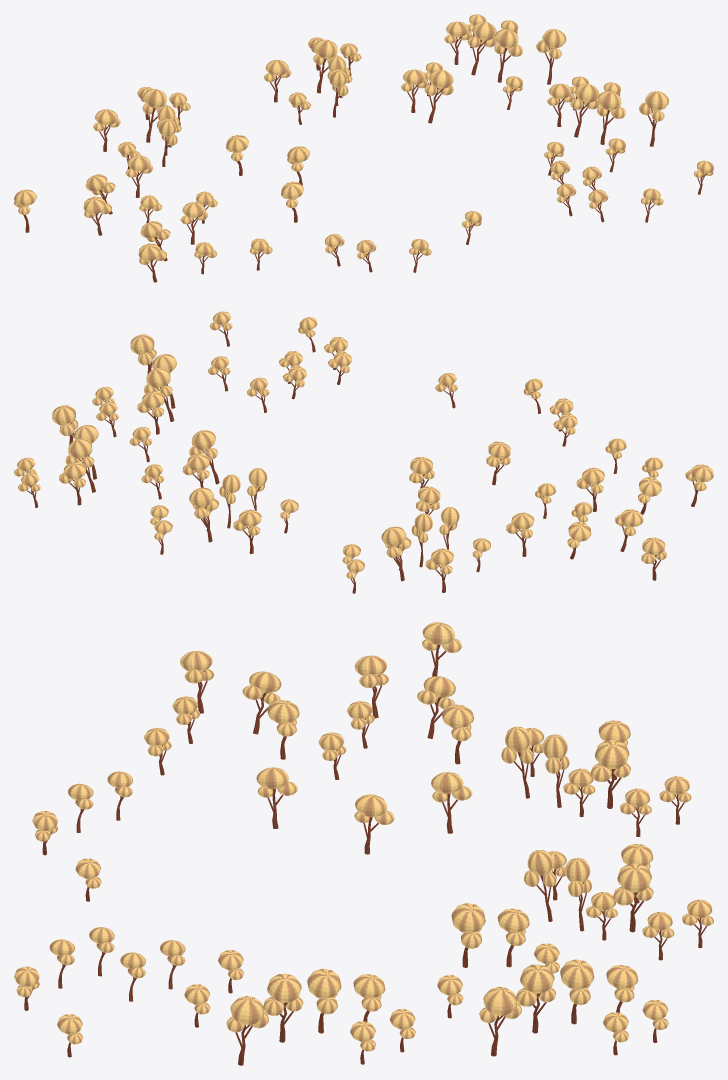
Rendered from Trees.glb.
3 renders of one model, top to bottom at view 1: azimuth 30°, elevation 25°; view 2: azimuth 150°, elevation 25°; view 3: azimuth 270°, elevation 25°, orthographic. The views are drawn at different scales.
Parts seen in each view (by area): view 1: Tree4 (2), Tree21, Tree21 (1), Tree4 (1), Tree13, Tree13 (1), Tree4, Tree34, Tree34 (1), Tree15 (1), Tree15 (2), Tree15 (+14 smaller); view 2: Tree4, Tree4 (2), Tree4 (1), Tree34 (1), Tree34, Tree13, Tree13 (1), Tree53 (1), Tree11 (1), Tree27 (1), Tree15 (1), Tree11 (+14 smaller); view 3: Tree34, Tree21, Tree21 (1), Tree34 (1), Tree13, Tree13 (1), Tree4 (1), Tree4, Tree4 (2), Tree60 (1), Tree52, Tree60 (+24 smaller).
Part boxes in pixels (x1,y1,x2,y2): Tree4 (2): (424,69,453,123); Tree21: (597,91,625,144); Tree21 (1): (494,29,522,82); Tree4 (1): (467,21,496,75); Tree13: (639,91,668,146); Tree13 (1): (536,29,566,84); Tree4: (570,83,599,137); Tree34: (313,39,339,93); Tree34 (1): (142,89,168,142); Tree15 (1): (444,21,471,64); Tree15 (2): (401,69,428,112); Tree15: (547,83,574,126); Tree4: (144,367,174,421); Tree4 (2): (189,430,219,484); Tree4 (1): (65,438,95,492); Tree34 (1): (381,526,406,581); Tree34: (189,487,213,542); Tree13: (130,334,156,373); Tree13 (1): (52,405,78,444); Tree53 (1): (641,537,666,580); Tree11 (1): (425,548,453,592); Tree27 (1): (506,512,534,556); Tree15 (1): (59,461,86,505); Tree11: (233,509,261,553); Tree34: (613,863,653,932); Tree21: (263,973,303,1042); Tree21 (1): (516,964,556,1033); Tree34 (1): (590,740,630,808); Tree13: (226,996,268,1065); Tree13 (1): (479,986,521,1056); Tree4 (1): (560,959,594,1024); Tree4: (307,968,341,1033); Tree4 (2): (451,903,485,967); Tree60 (1): (417,676,455,738); Tree52: (256,767,297,828); Tree60: (242,671,281,734).
Bounding box in the file's own units: 135 × 11.45 × 99.23.
1 material, 1 textured.
